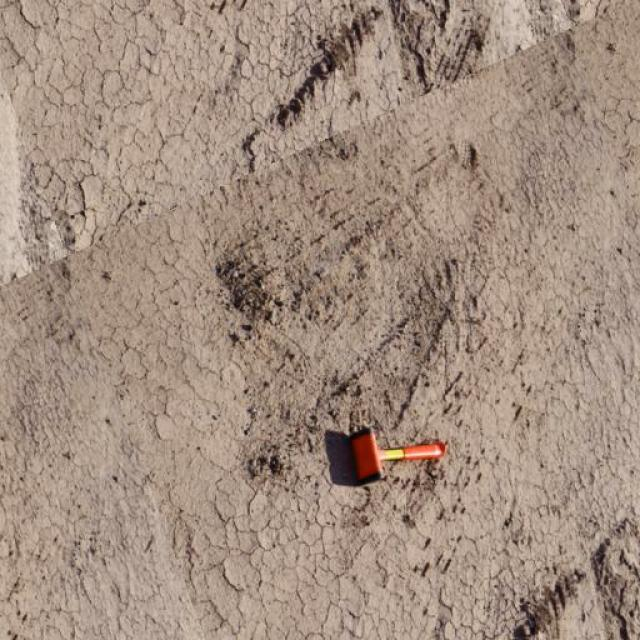mallet: (348, 425, 448, 483)
